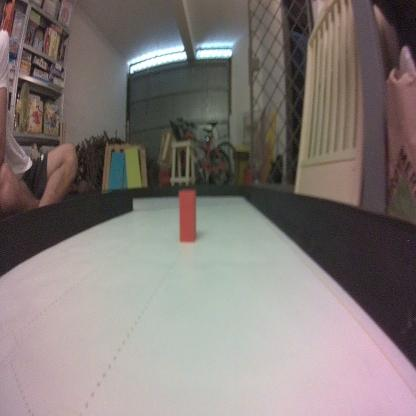red: (176, 186, 198, 246)
